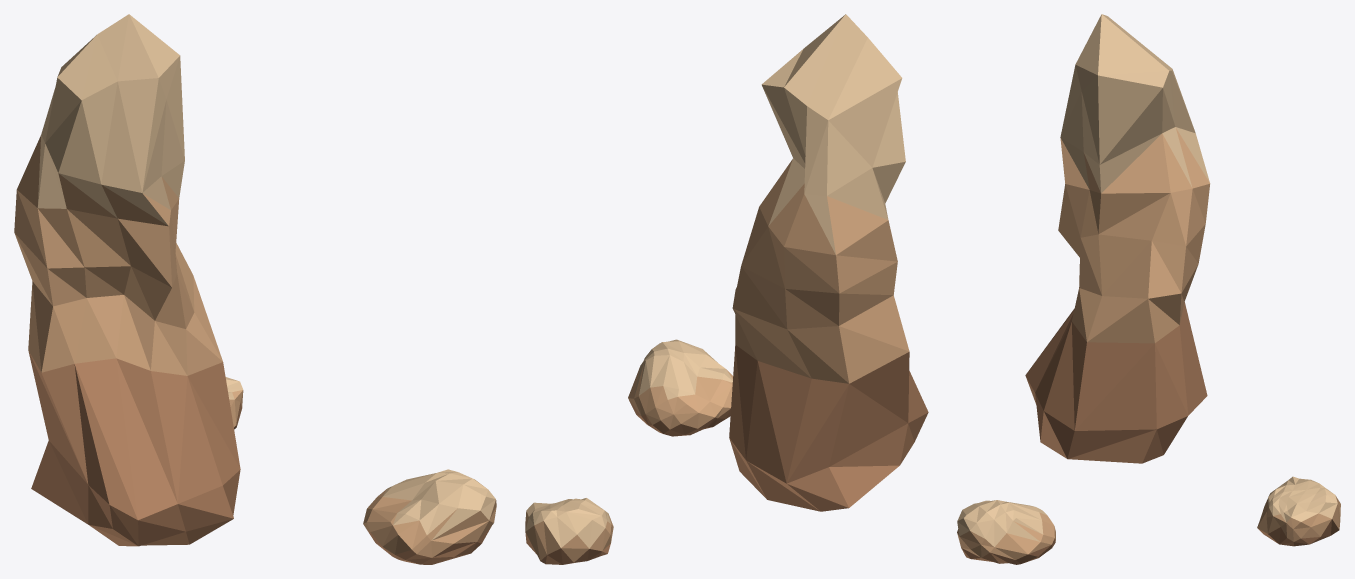
File: canyon-1-2.glb
3 views of the same model, side by side, from view 1: azimuth 30°, elevation 25°; view 2: azimuth 150°, elevation 25°; view 3: azimuth 270°, elevation 25° (orthographic). The views are drawn at different scales.
Parts seen in each view (by area): view 1: canyon-1-2; view 2: canyon-1-2; view 3: canyon-1-2.
Boxes of the visible parts, x1=… form: canyon-1-2: x1=14, y1=14, x2=496, y2=564; canyon-1-2: x1=525, y1=14, x2=928, y2=564; canyon-1-2: x1=957, y1=14, x2=1340, y2=564.
Size of the model in its own units: 26.07 by 36.79 by 28.5.
